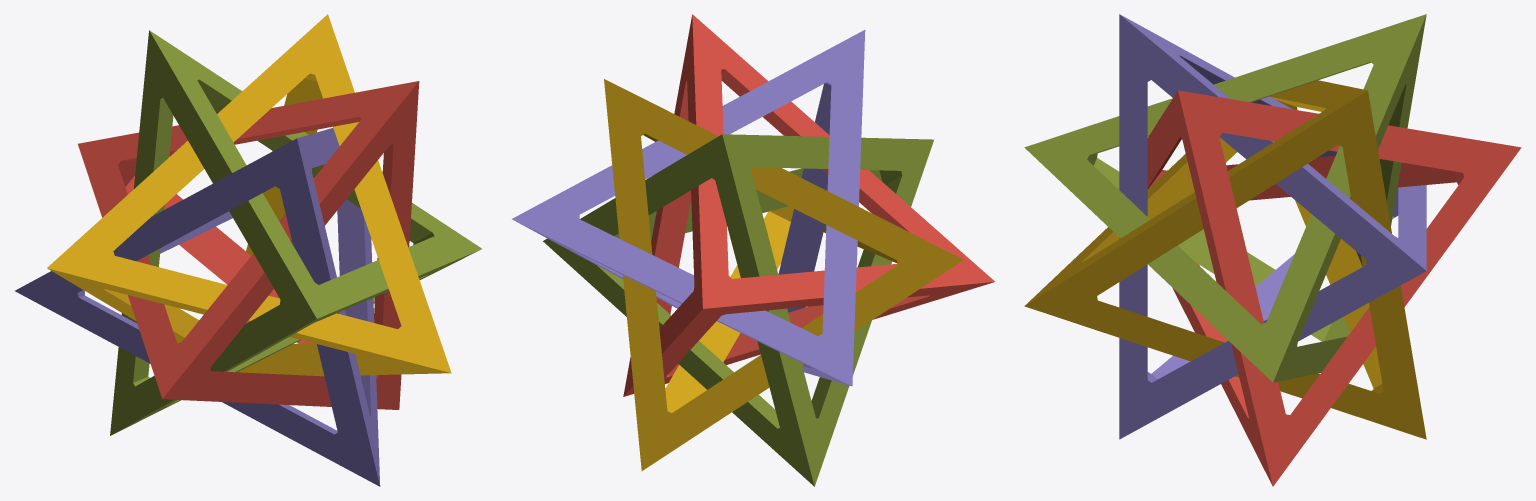
File: fit-4.glb
3 renders of one model, left to right at view 1: azimuth 30°, elevation 25°; view 2: azimuth 150°, elevation 25°; view 3: azimuth 270°, elevation 25°, orthographic. The views are drawn at different scales.
Visible parts, largest first — view 1: fit.002, fit.005, fit.003, fit.001; view 2: fit.002, fit.001, fit.003, fit.005; view 3: fit.002, fit.005, fit.003, fit.001.
Part boxes in pixels (x1=…): fit.002: x1=47, y1=14, x2=451, y2=376; fit.005: x1=78, y1=81, x2=419, y2=409; fit.003: x1=110, y1=30, x2=481, y2=435; fit.001: x1=15, y1=128, x2=380, y2=486; fit.002: x1=604, y1=79, x2=963, y2=470; fit.001: x1=512, y1=30, x2=865, y2=386; fit.003: x1=543, y1=134, x2=933, y2=486; fit.005: x1=623, y1=14, x2=994, y2=396; fit.002: x1=1024, y1=80, x2=1426, y2=439; fit.005: x1=1147, y1=90, x2=1521, y2=486; fit.003: x1=1024, y1=14, x2=1426, y2=382; fit.001: x1=1119, y1=14, x2=1426, y2=439.
Size of the model in its own units: 6.01 by 4.87 by 5.72.
